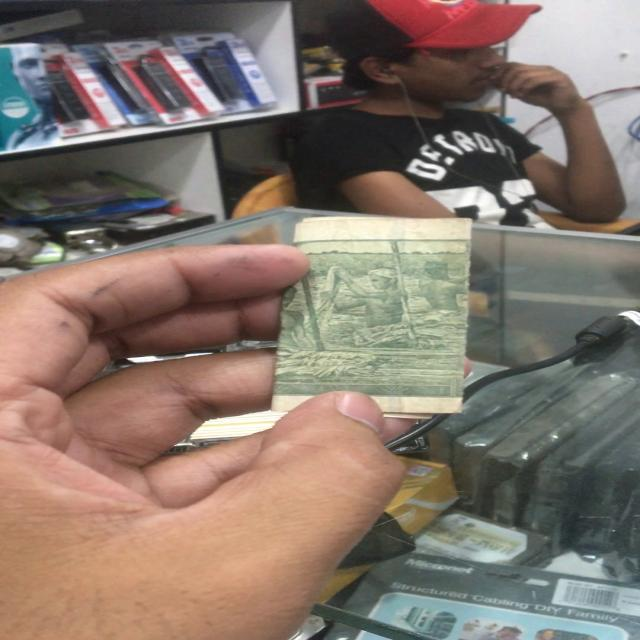Taka: (302, 217, 470, 421)
